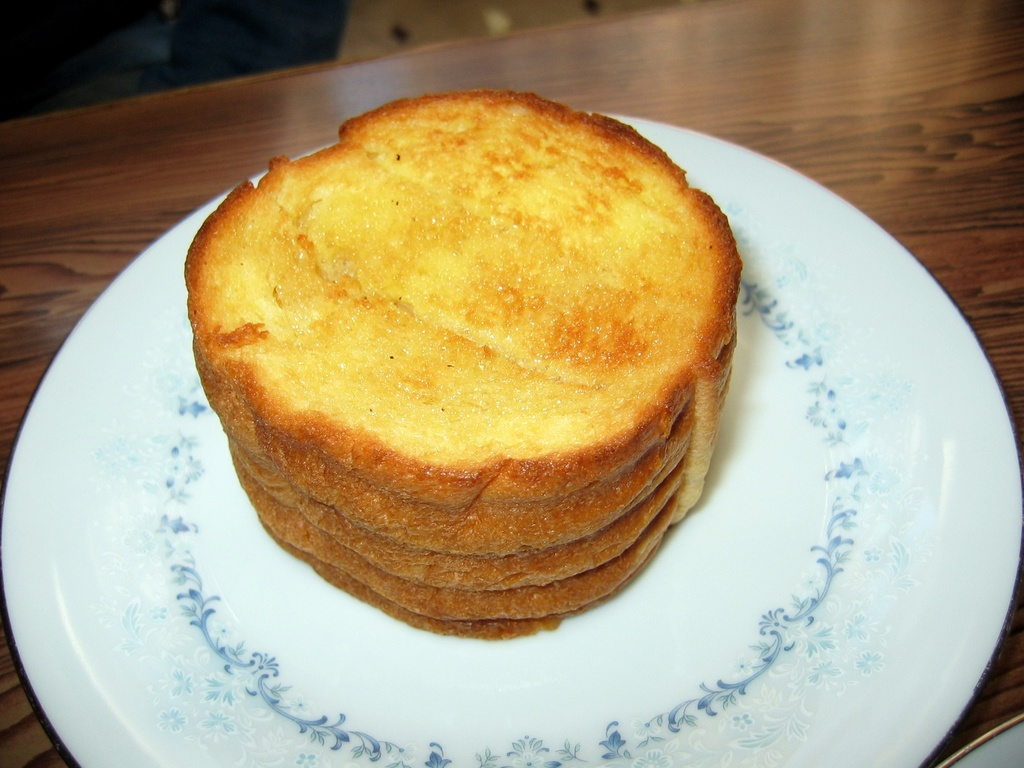person: (0, 0, 355, 127)
